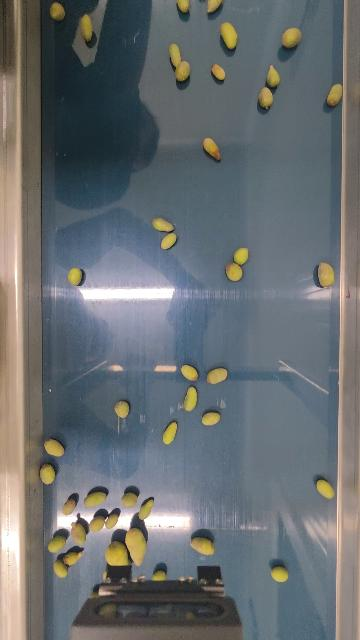Baby Potato: (125, 526, 148, 567), (104, 540, 130, 567), (219, 20, 239, 50), (78, 12, 96, 43), (202, 136, 223, 161), (317, 261, 336, 288), (281, 26, 302, 50), (190, 536, 215, 556), (43, 437, 65, 458), (206, 366, 229, 386), (183, 385, 199, 413), (326, 82, 344, 106), (84, 490, 108, 508), (152, 216, 176, 234), (316, 478, 335, 500), (168, 40, 184, 66), (162, 420, 178, 446), (174, 59, 192, 82), (71, 521, 87, 546), (47, 534, 67, 554), (224, 261, 243, 282), (265, 64, 281, 88), (159, 230, 178, 250), (39, 463, 56, 485), (49, 0, 66, 22), (257, 86, 273, 109), (138, 498, 154, 520), (181, 363, 199, 382), (271, 564, 289, 583), (114, 399, 131, 419), (63, 549, 83, 565), (201, 410, 221, 426), (53, 558, 68, 579), (88, 514, 105, 532), (120, 491, 138, 508), (233, 246, 249, 265), (104, 511, 120, 530), (67, 267, 83, 286), (61, 498, 77, 516), (211, 63, 226, 81), (205, 0, 224, 13), (176, 0, 191, 13), (152, 569, 167, 581)
